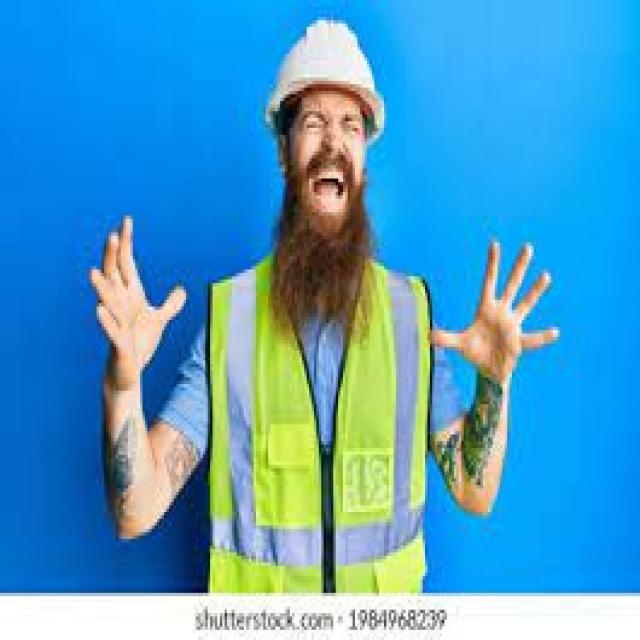Reflective-Jacket: (198, 249, 444, 593)
Safety-Helmet: (263, 13, 389, 135)
